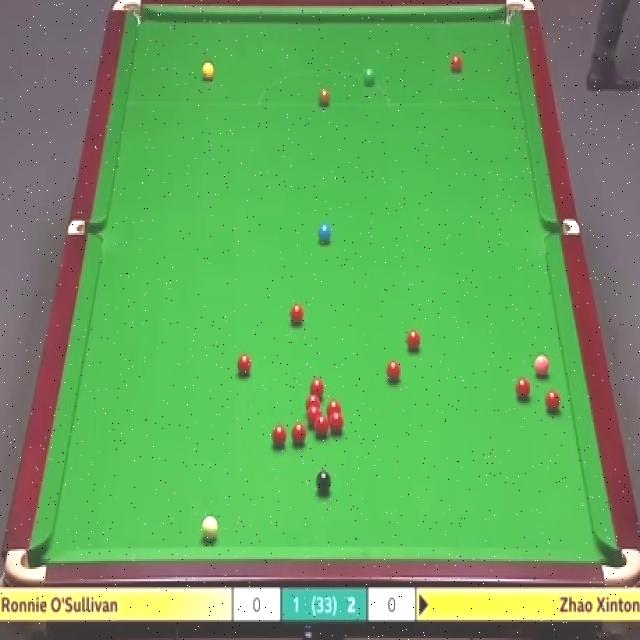black-ball: (316, 468, 332, 498)
blue-ball: (318, 223, 332, 245)
brown-ball: (318, 87, 331, 107)
green-ball: (362, 66, 376, 86)
pink-ball: (534, 352, 550, 378)
red-ball: (236, 352, 253, 380), (291, 421, 307, 449), (516, 377, 534, 401), (270, 423, 287, 448), (545, 390, 562, 413), (385, 360, 401, 384), (407, 328, 422, 353), (329, 412, 344, 436), (289, 304, 305, 326), (315, 414, 328, 437), (308, 378, 325, 395), (307, 407, 321, 425), (306, 393, 320, 410), (451, 58, 463, 74), (327, 402, 341, 415)
white-ball: (200, 515, 218, 545)
yellow-ball: (202, 62, 216, 83)
